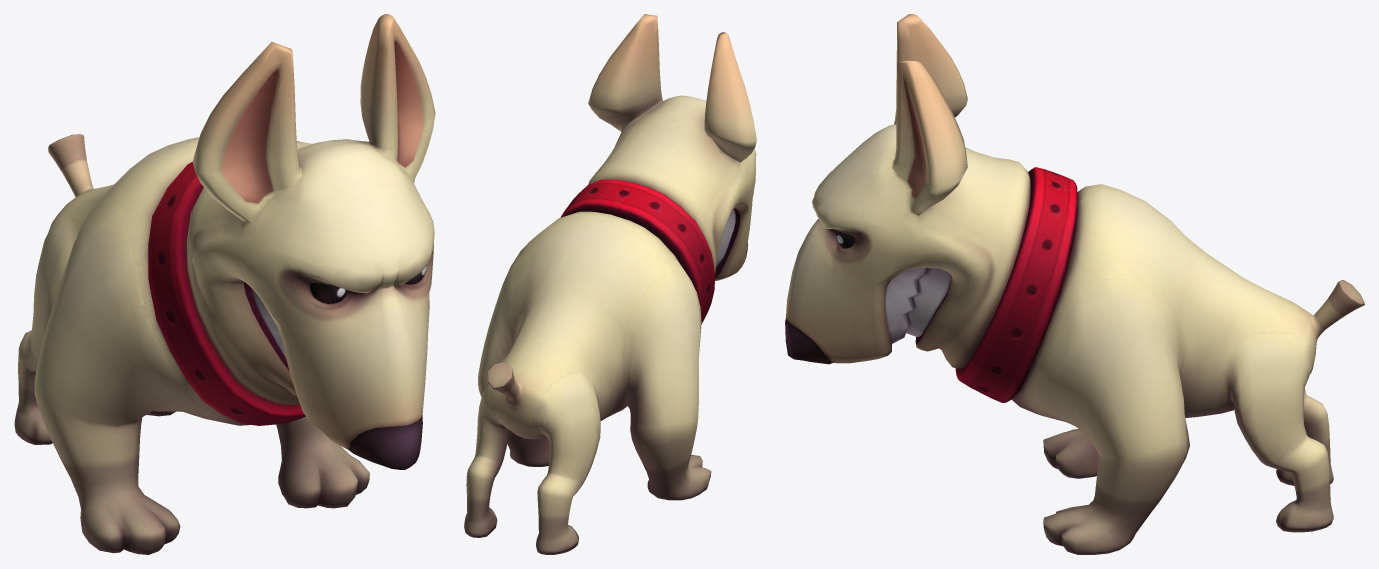
Rendered from dog.glb.
The picture shows the model from 3 angles, left to right: view 1: azimuth 30°, elevation 25°; view 2: azimuth 150°, elevation 25°; view 3: azimuth 270°, elevation 25°; orthographic projection. The views are drawn at different scales.
Parts seen in each view (by area): view 1: Object_2; view 2: Object_2; view 3: Object_2.
Boxes of the visible parts, x1,y1,x2,y2 form: Object_2: (14, 14, 435, 554); Object_2: (464, 14, 756, 554); Object_2: (785, 14, 1364, 554).
Size of the model in its own units: 0.4155 by 0.7341 by 0.8309.
1 material, 1 textured.
